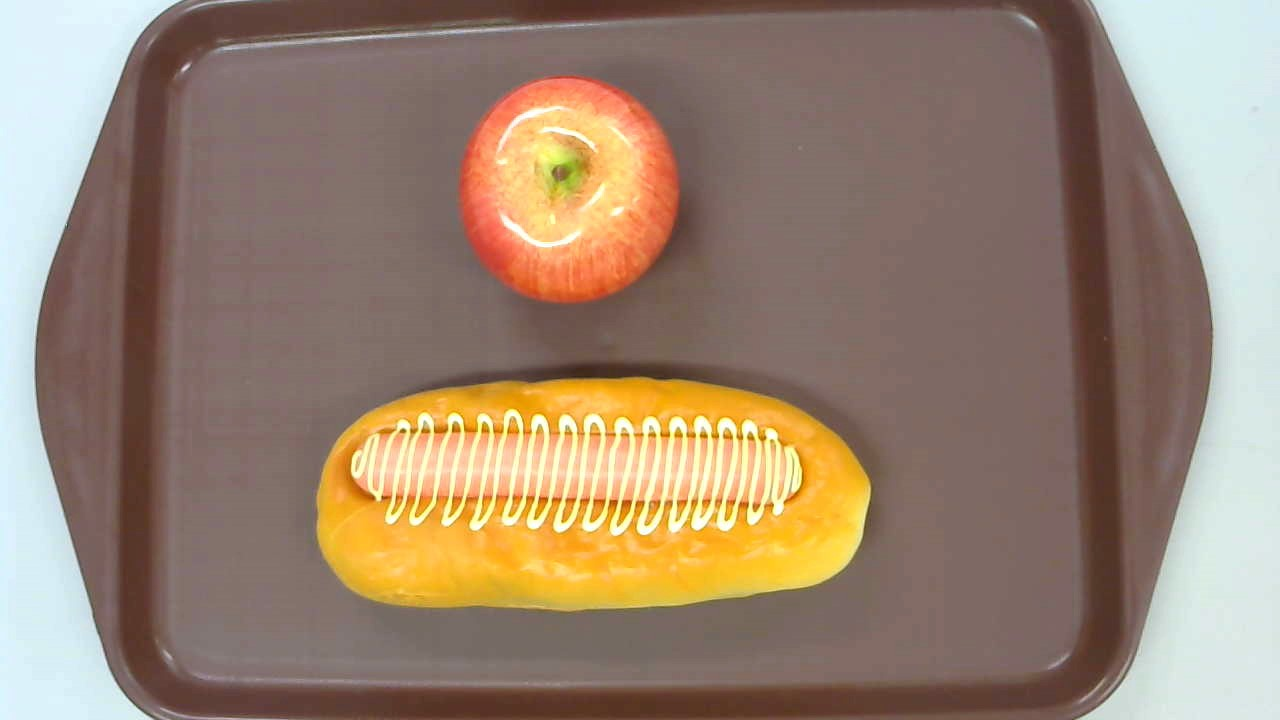hot dog: (315, 374, 870, 612)
red apple: (457, 76, 680, 304)
